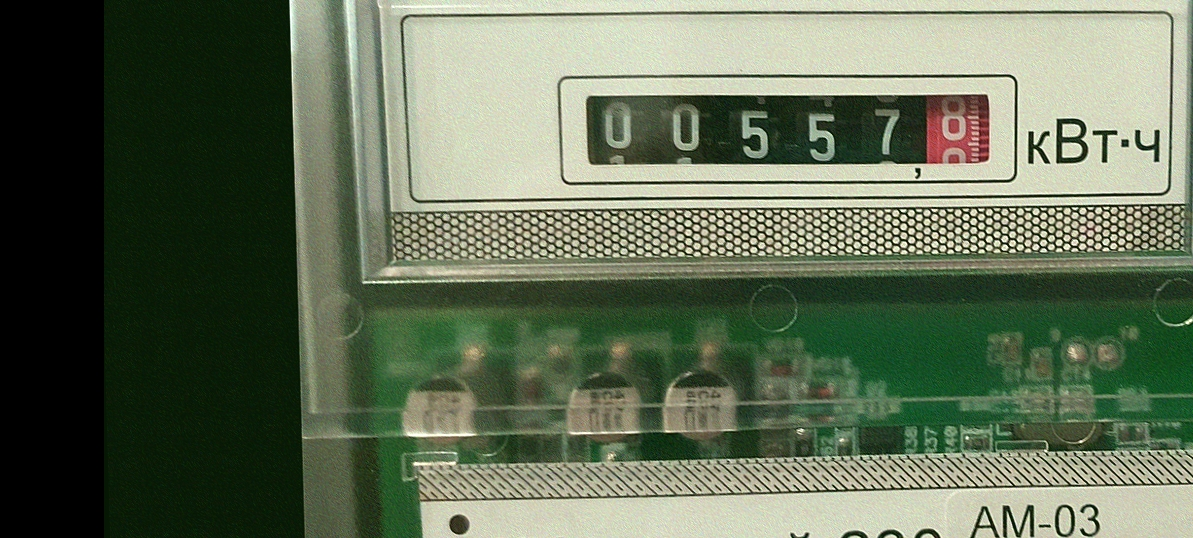0: (598, 97, 634, 154), (666, 101, 701, 154)
5: (801, 106, 840, 165), (735, 105, 771, 163)
7: (866, 103, 901, 159)
8: (937, 94, 967, 145)
screen: (551, 56, 1023, 201)
